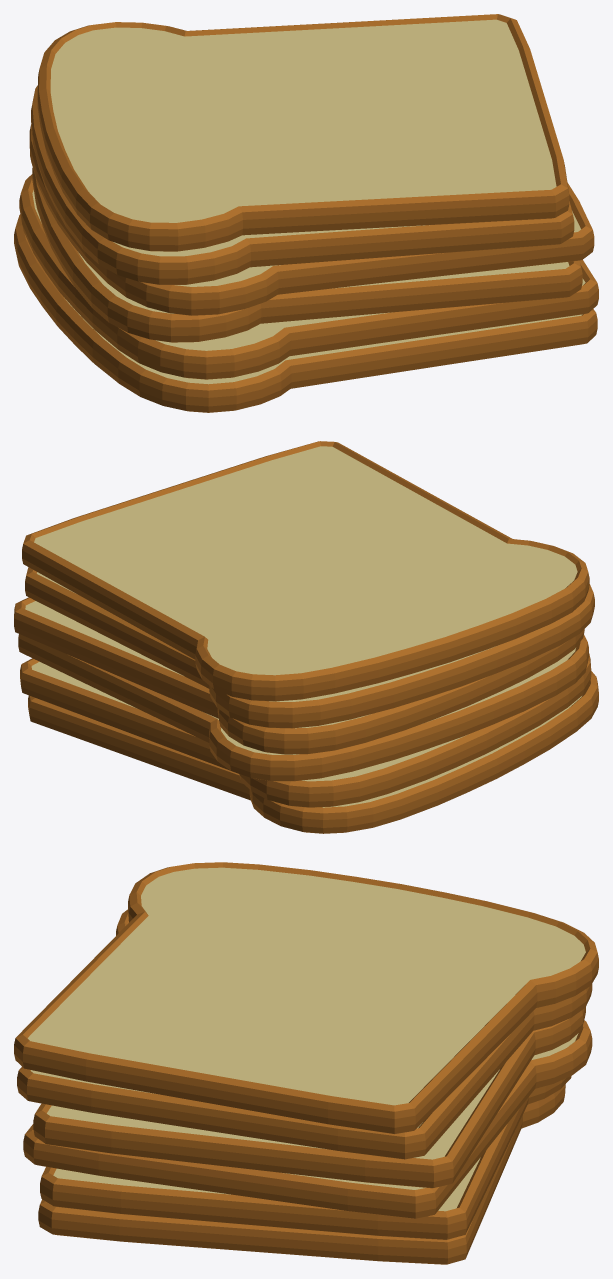
Rendered from toast.glb.
3 renders of one model, top to bottom at view 1: azimuth 30°, elevation 25°; view 2: azimuth 150°, elevation 25°; view 3: azimuth 270°, elevation 25°, orthographic. The views are drawn at different scales.
Visible parts, largest first — view 1: Plane.002; view 2: Plane.002; view 3: Plane.002.
Boxes of the visible parts, <box> form: Plane.002: <box>14,14,598,412</box>; Plane.002: <box>14,441,598,833</box>; Plane.002: <box>14,862,598,1264</box>.
Bounding box in the file's own units: 2.75 × 0.8905 × 2.71.
